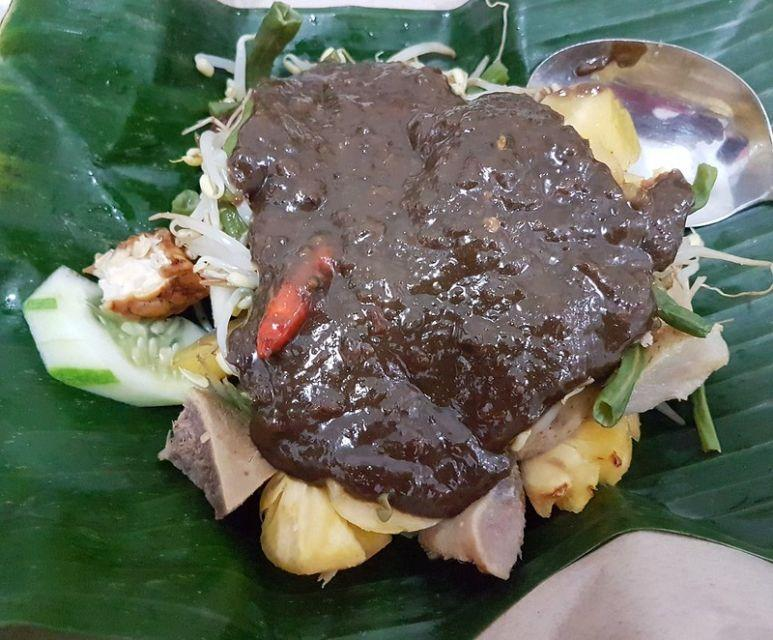rujak_cingur: (18, 3, 728, 574)
